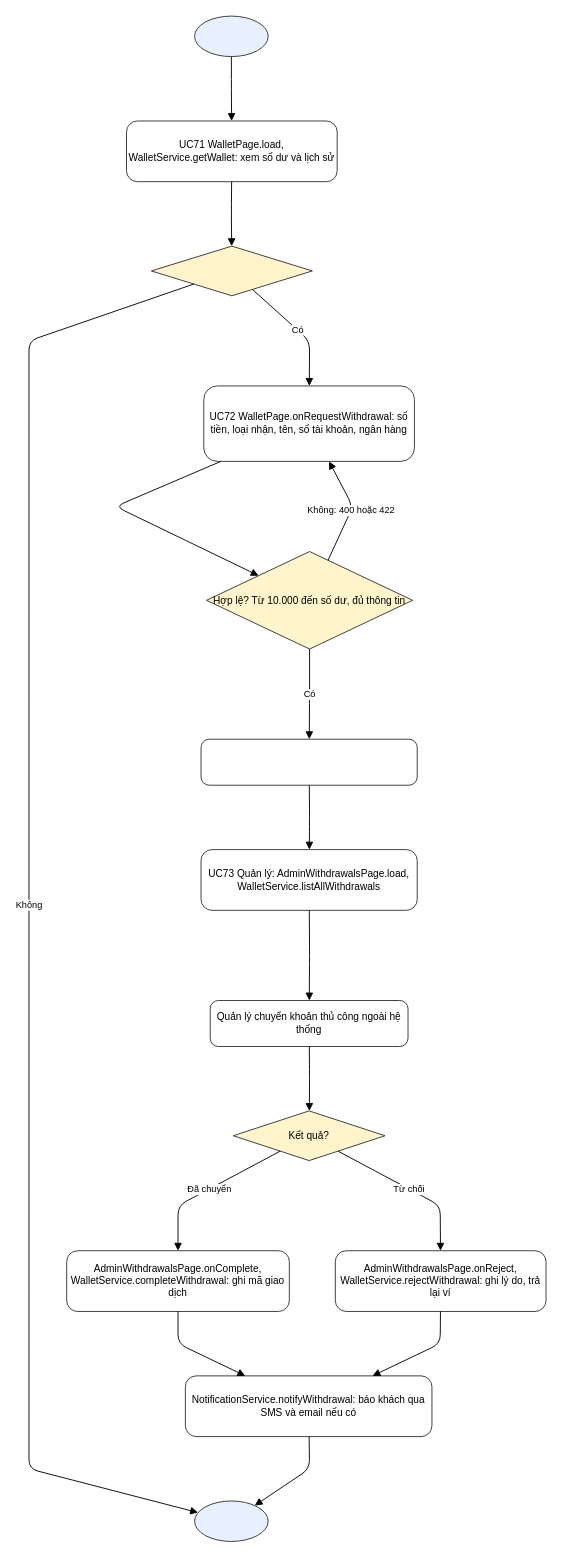
This 562x1558 diagram has some shape labels left out. Each missing label, with the box of its shape:
Bắt đầu: khách có tiền hoàn trong ví: (194, 15, 268, 57)
Kết thúc: (194, 1500, 268, 1541)
Muốn rút tiền?: (150, 245, 312, 296)
WalletService.requestWithdrawal: tạo yêu cầu PENDING, trừ ví ngay: (200, 738, 417, 785)
